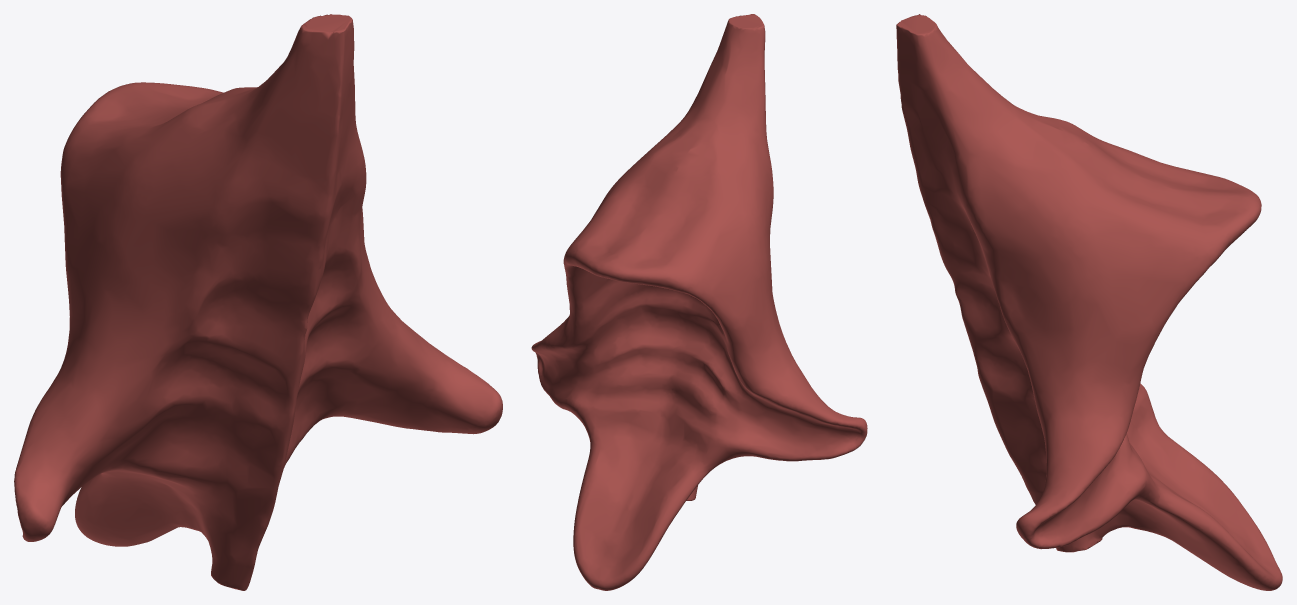
The model's file is FMA78469.glb.
3 renders of one model, left to right at view 1: azimuth 30°, elevation 25°; view 2: azimuth 150°, elevation 25°; view 3: azimuth 270°, elevation 25°, orthographic. The views are drawn at different scales.
Parts seen in each view (by area): view 1: FMA78469; view 2: FMA78469; view 3: FMA78469.
Boxes of the visible parts, bbox=[...] form: FMA78469: bbox=[14, 14, 502, 590]; FMA78469: bbox=[531, 14, 867, 590]; FMA78469: bbox=[896, 14, 1282, 590].
Size of the model in its own units: 0.0267 by 0.0356 by 0.0222.
